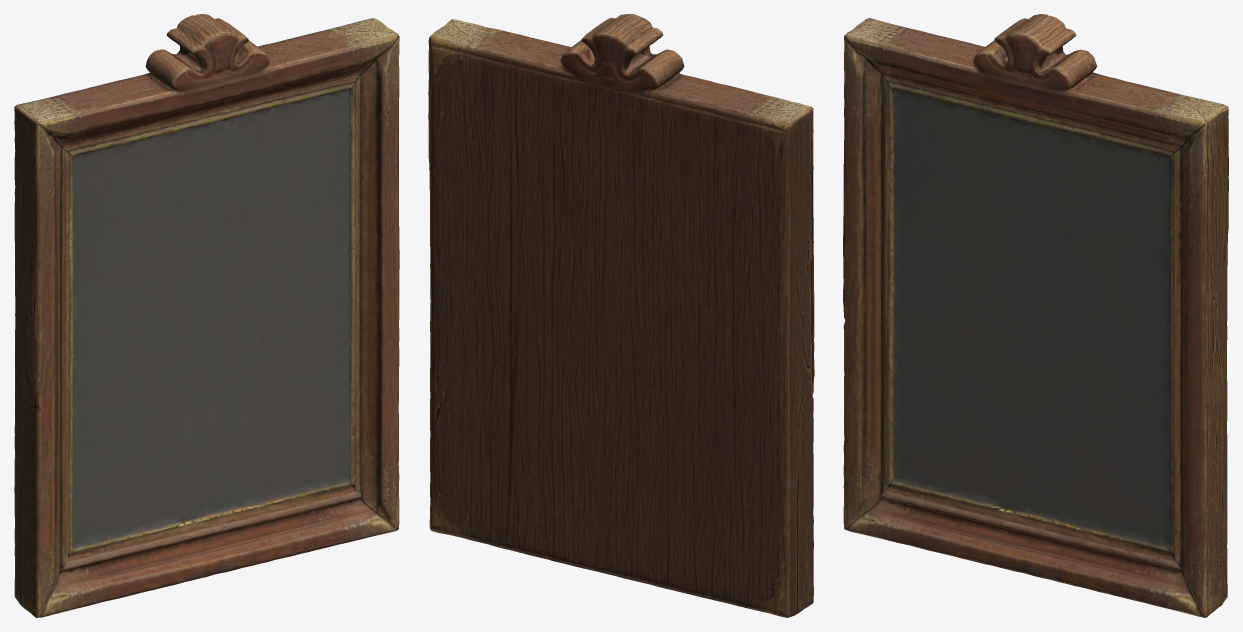
File: Furn_WallMirror.fbx
3 views of the same model, side by side, from view 1: azimuth 30°, elevation 25°; view 2: azimuth 150°, elevation 25°; view 3: azimuth 330°, elevation 25° (orthographic).
Visible parts, largest first — view 1: texture_mapping; view 2: texture_mapping; view 3: texture_mapping.
Part boxes in pixels (box(x1,y1,x2,y2)): texture_mapping: box(14, 14, 399, 617); texture_mapping: box(428, 14, 814, 617); texture_mapping: box(843, 14, 1228, 617).
Bounding box in the file's own units: 0.7016 × 0.0993 × 1.
1 material, 1 textured.
